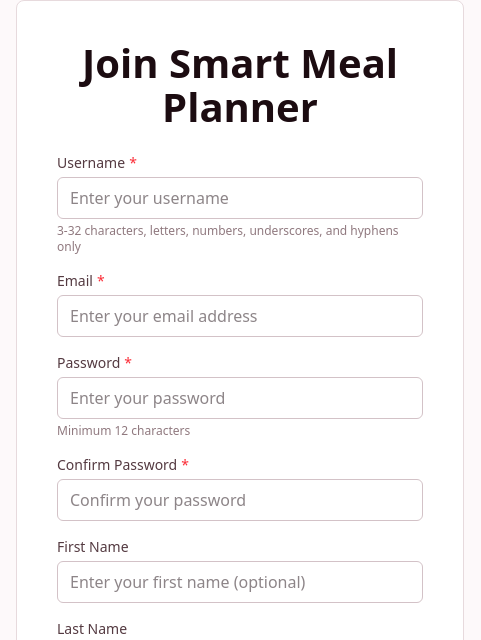
RegisterPage › Validation Tests › validates email - required
This screenshot has width=481, height=640.
Step 1. Click the field labelled "Email*" → (240, 316), box 57,295 -> 423,337
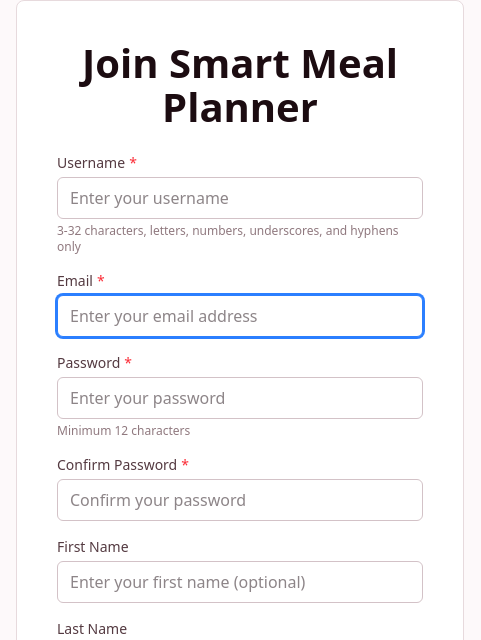
Step 2. Press Tab
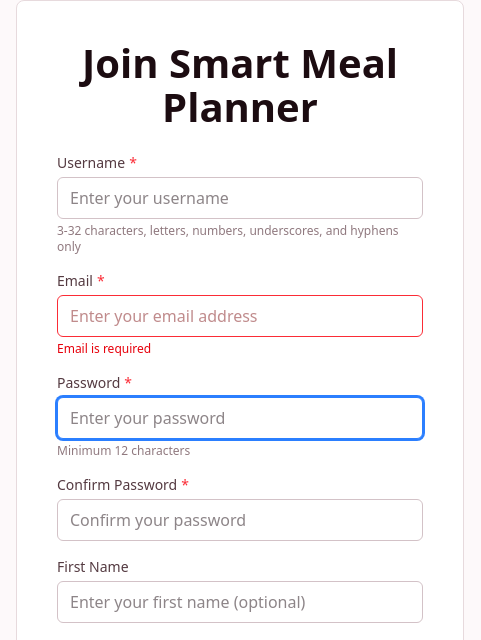
Check: the text "Email is required" is shown, box 57,340 -> 151,357
